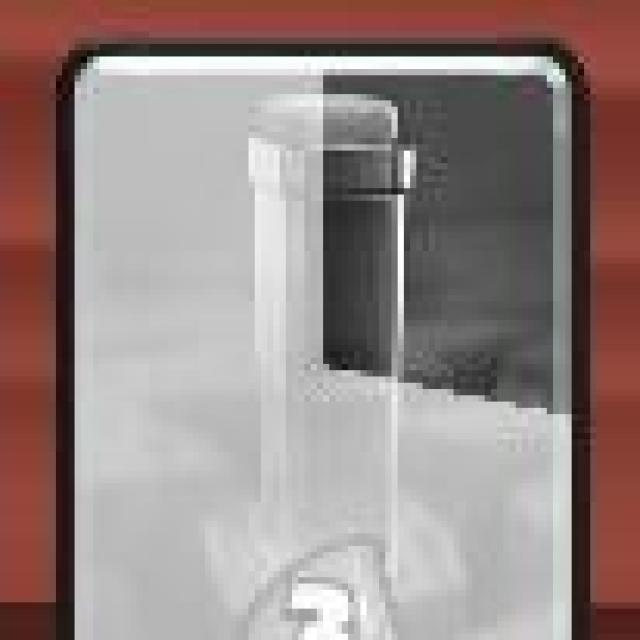Earthquake: (55, 42, 592, 640)
